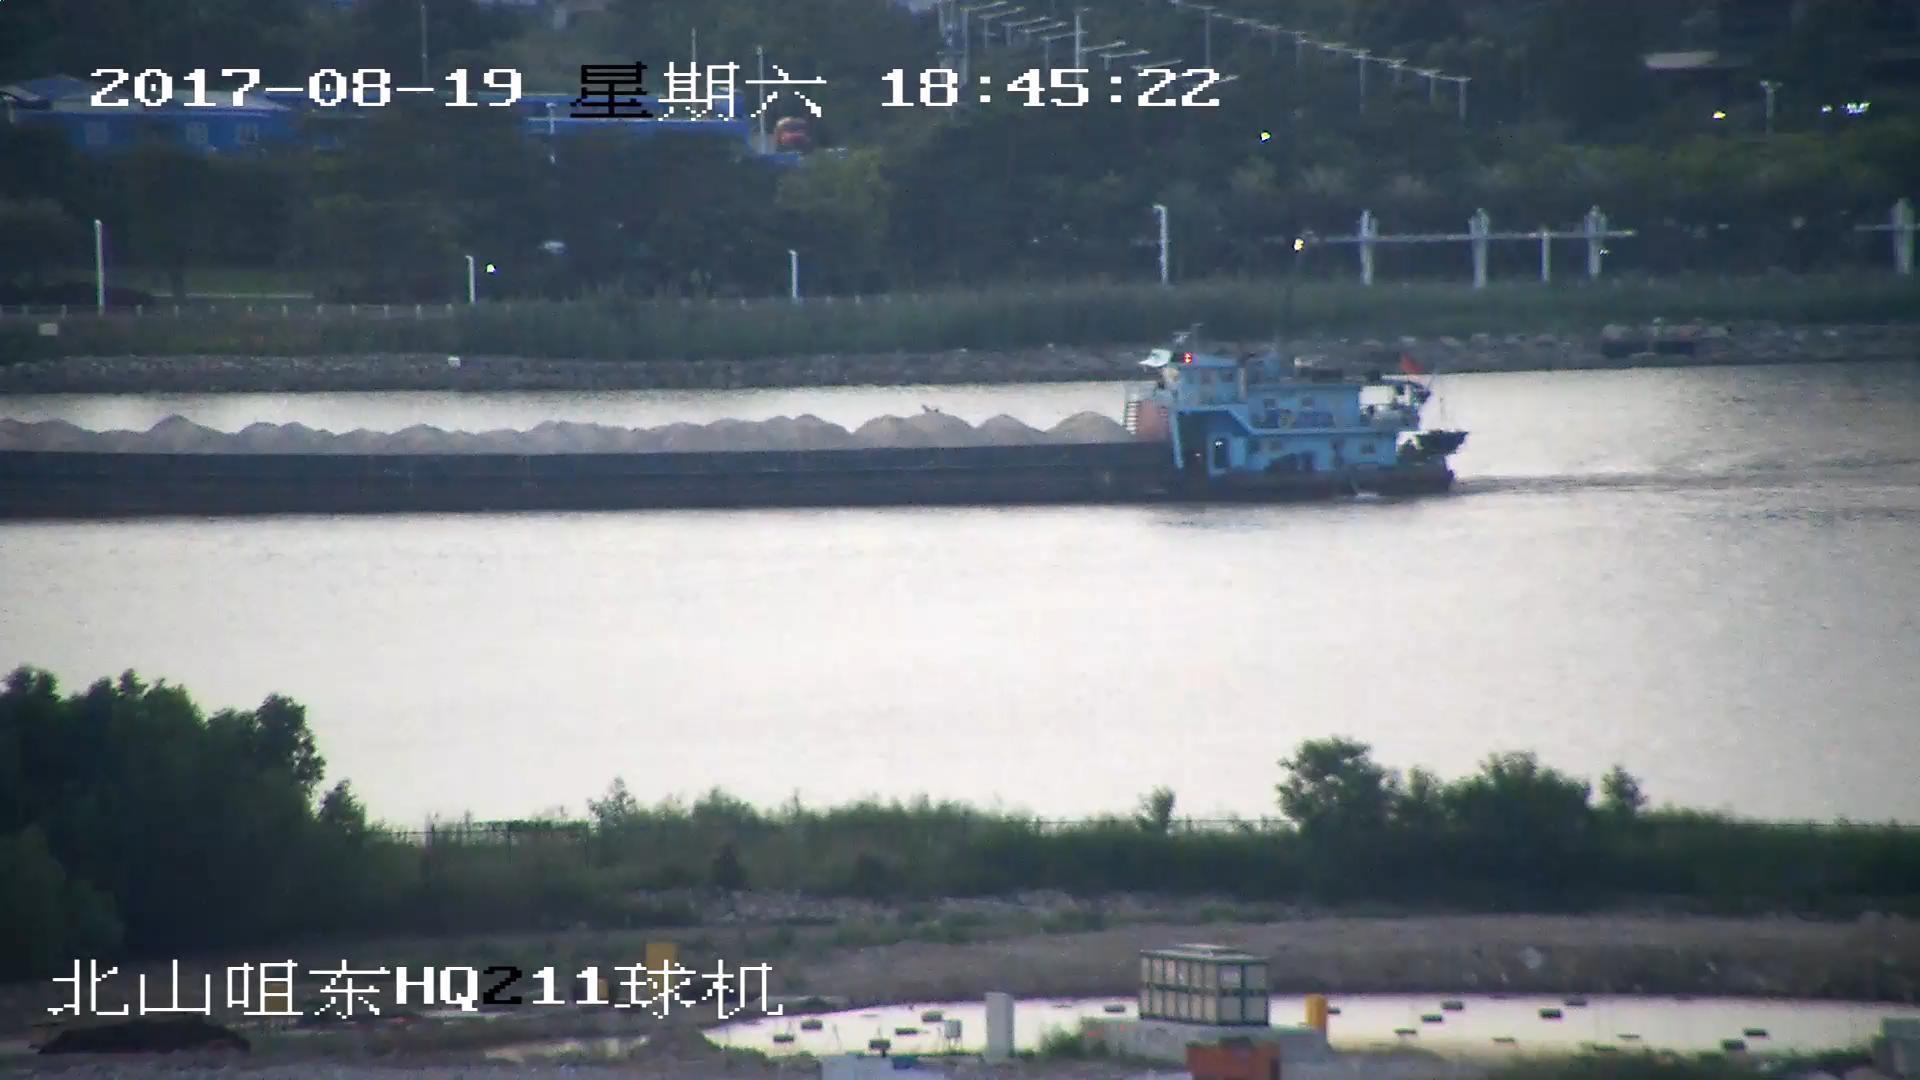Ship: (3, 322, 1465, 516)
